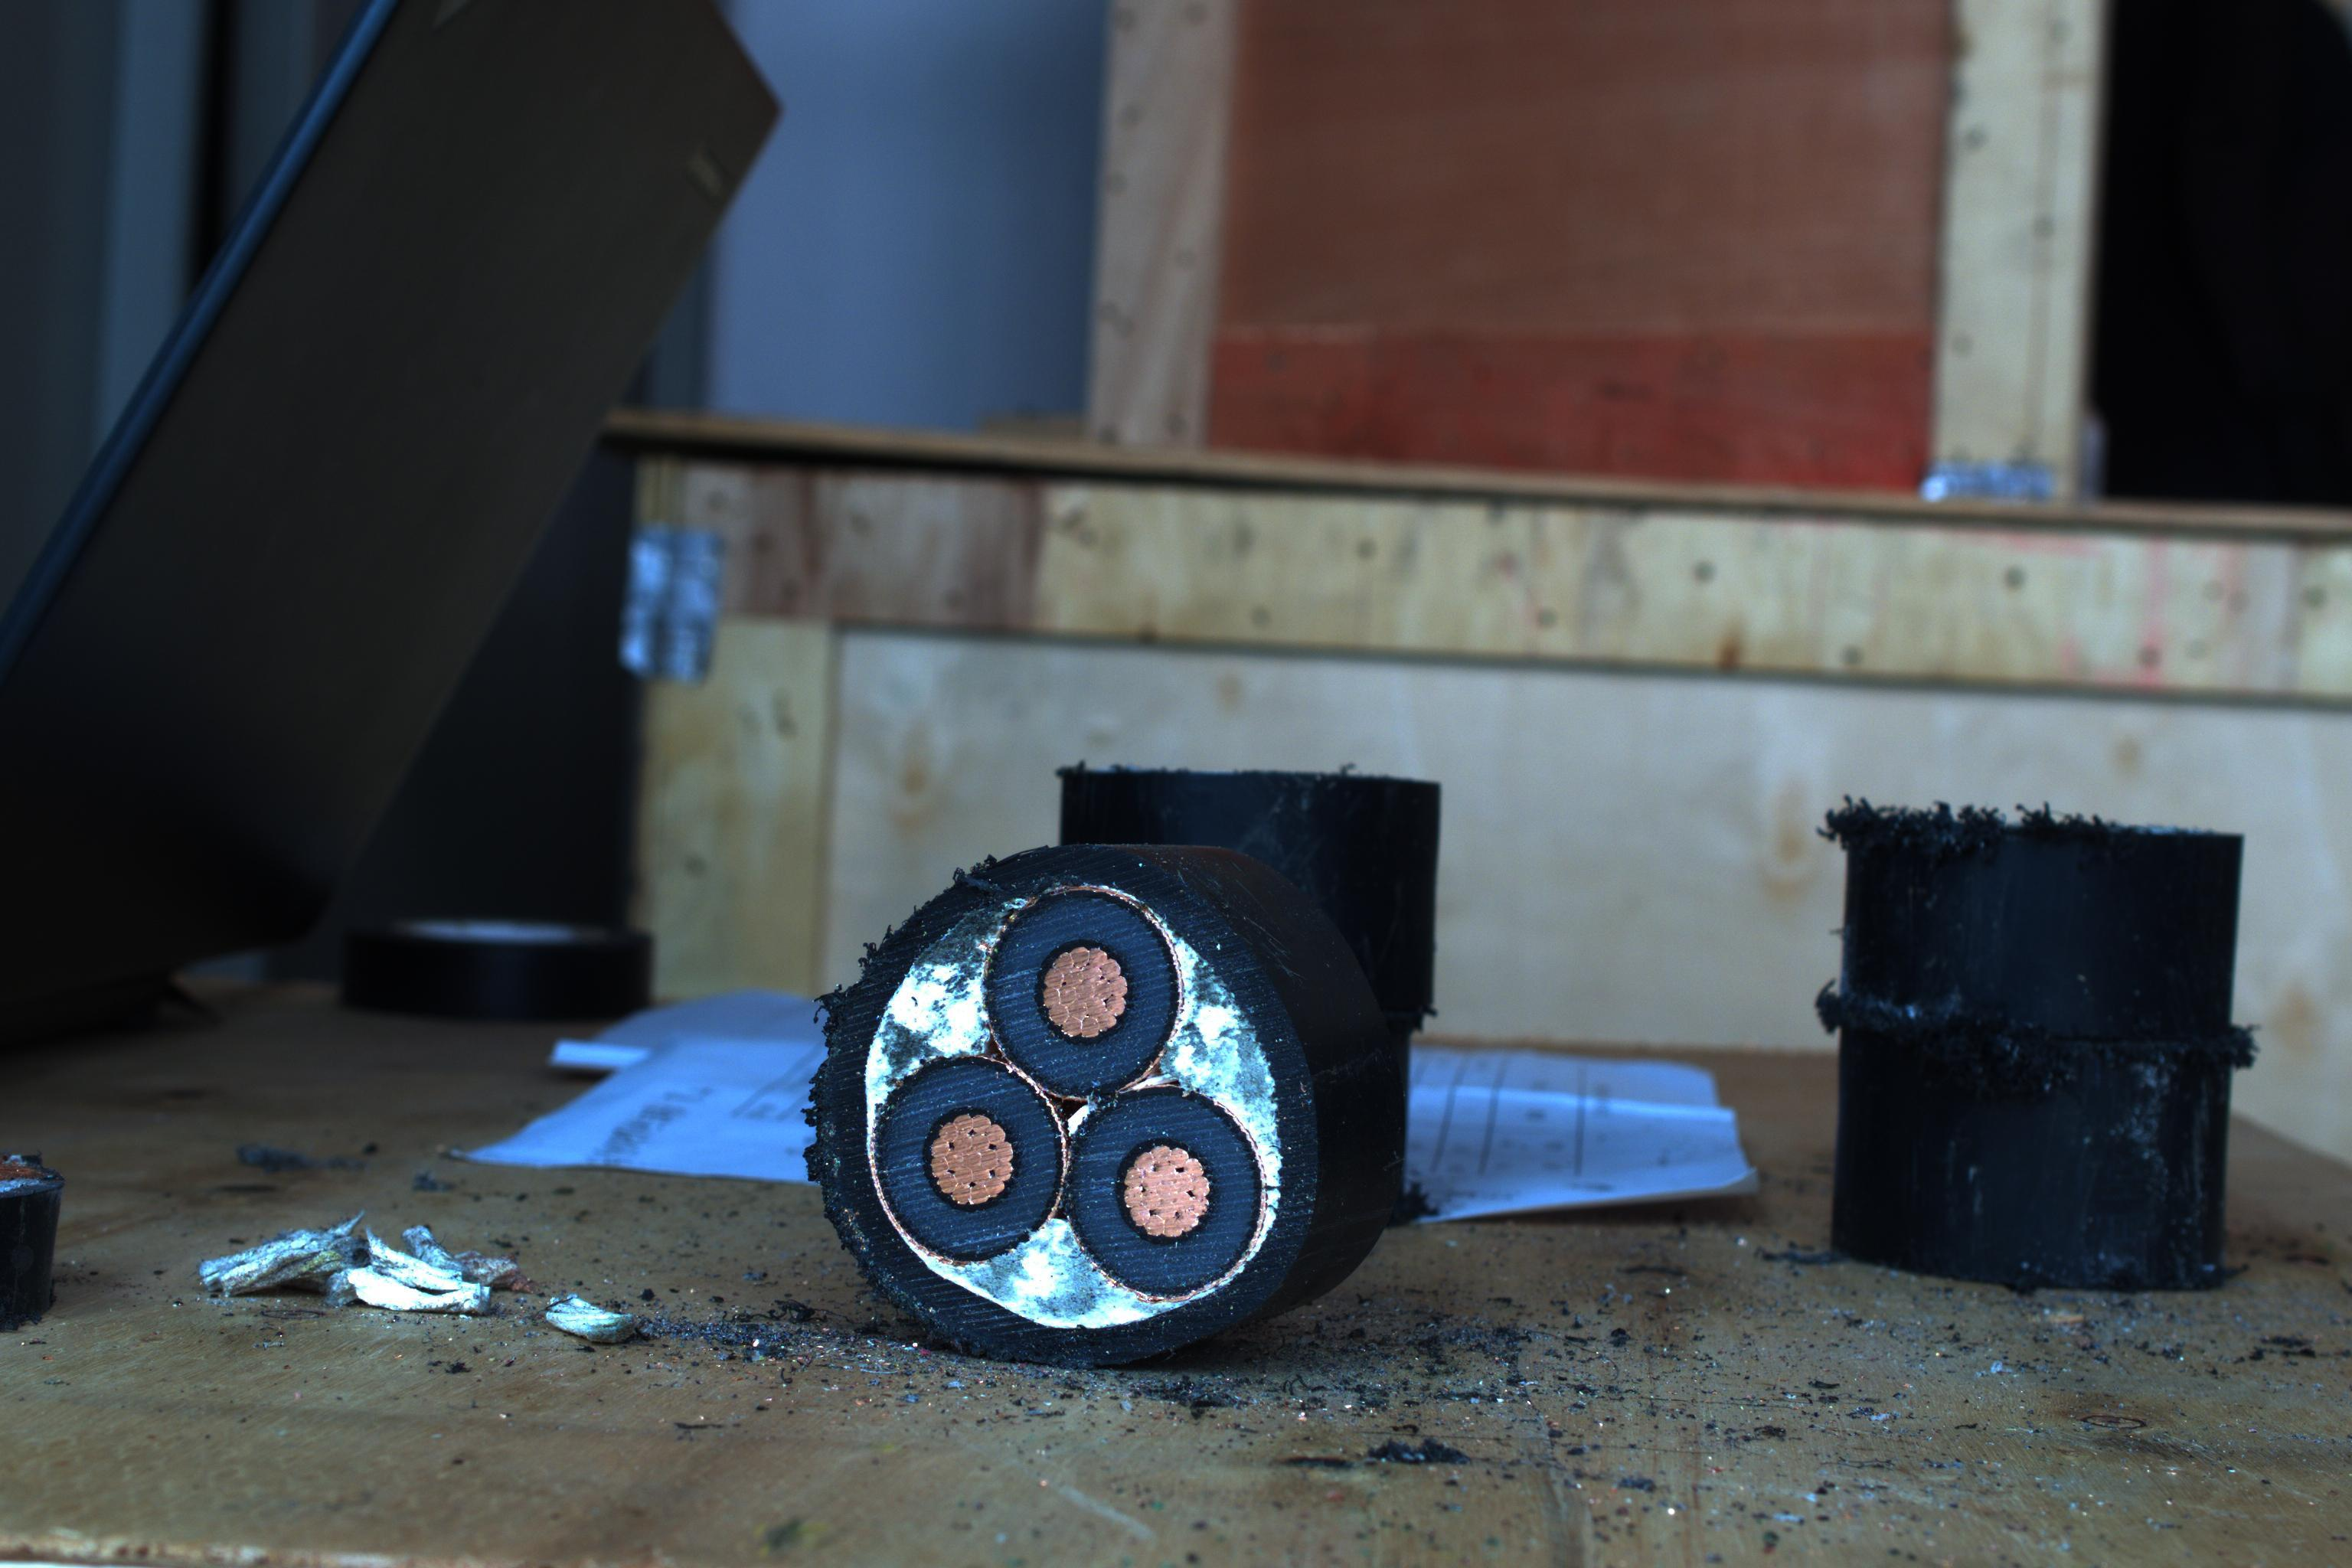YJV_8.7_10kV_3x70: (852, 828, 1339, 1368)
